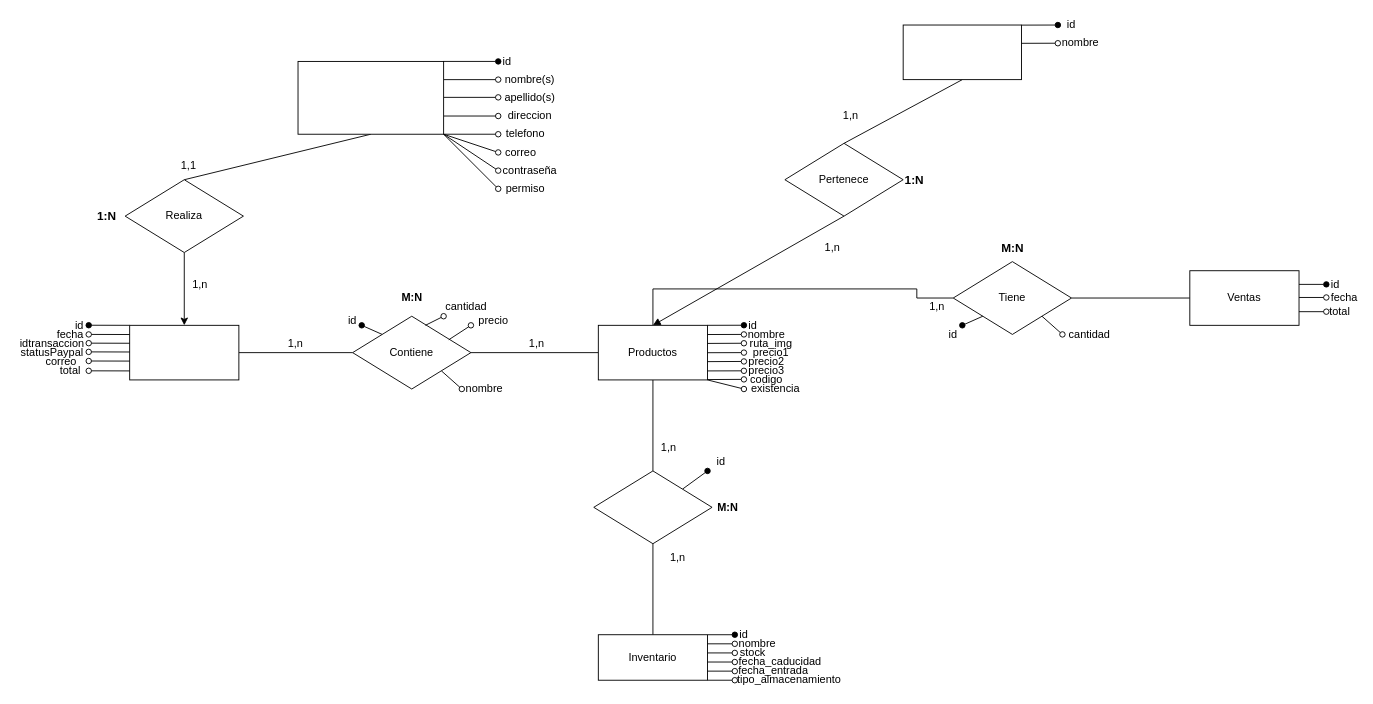
The diagram is 1373 pixels wide and 704 high, and some of its shapes have lost their labels. Here are the shapes that lost their labels. From the top down, the centre of each, then its label:
At [961,52]: "Categoria".
At [370,97]: "Usuario".
At [184,352]: "Pedido".
At [652,507]: "Paquete".
